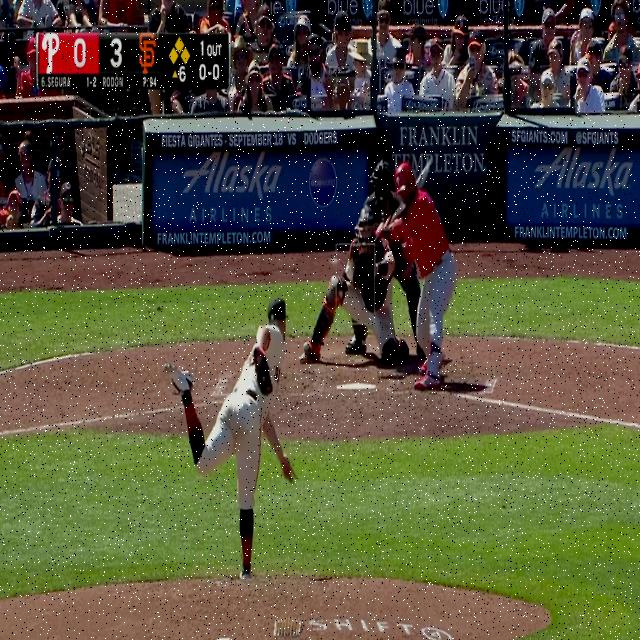baseball: (330, 257, 337, 267)
